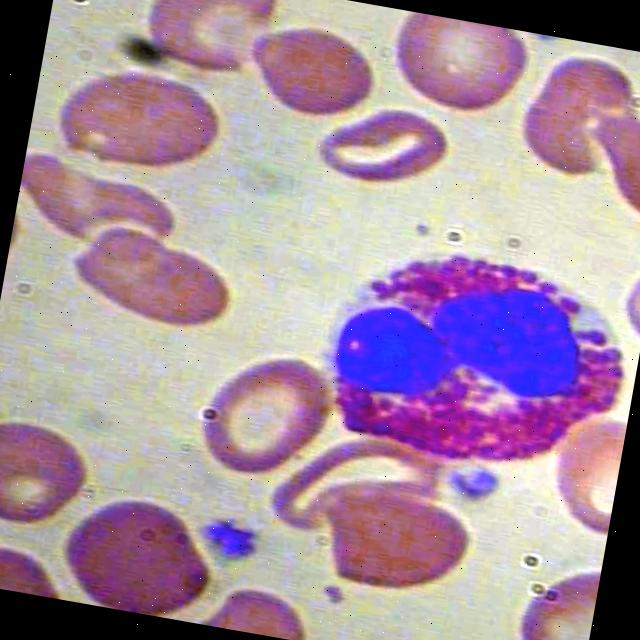Platelets: (193, 508, 263, 570), (444, 459, 498, 506)
RBC: (43, 485, 226, 624), (48, 51, 236, 182), (303, 482, 483, 616), (62, 212, 242, 346), (184, 338, 337, 492), (382, 9, 538, 129), (310, 84, 460, 204), (233, 18, 382, 137), (0, 414, 102, 538), (128, 0, 277, 83)
WBC: (294, 211, 640, 491)
